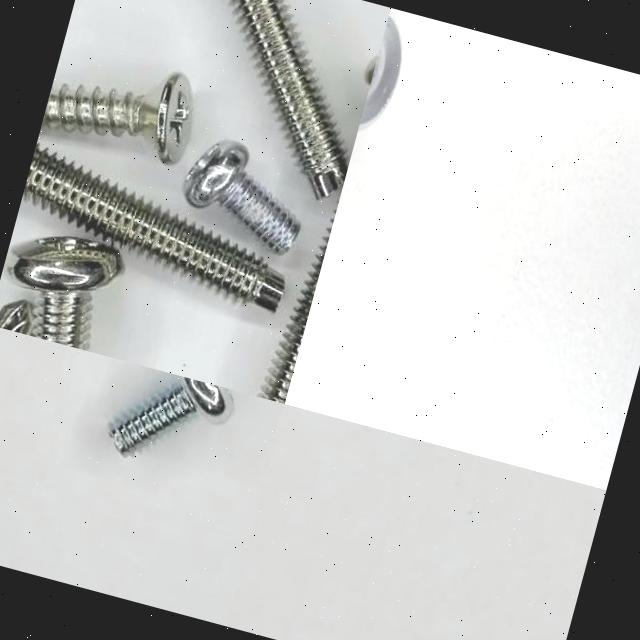Screw: (22, 145, 285, 312), (231, 0, 348, 199), (40, 73, 192, 164), (183, 141, 300, 254), (12, 237, 122, 351), (109, 376, 234, 456), (356, 11, 416, 140)
